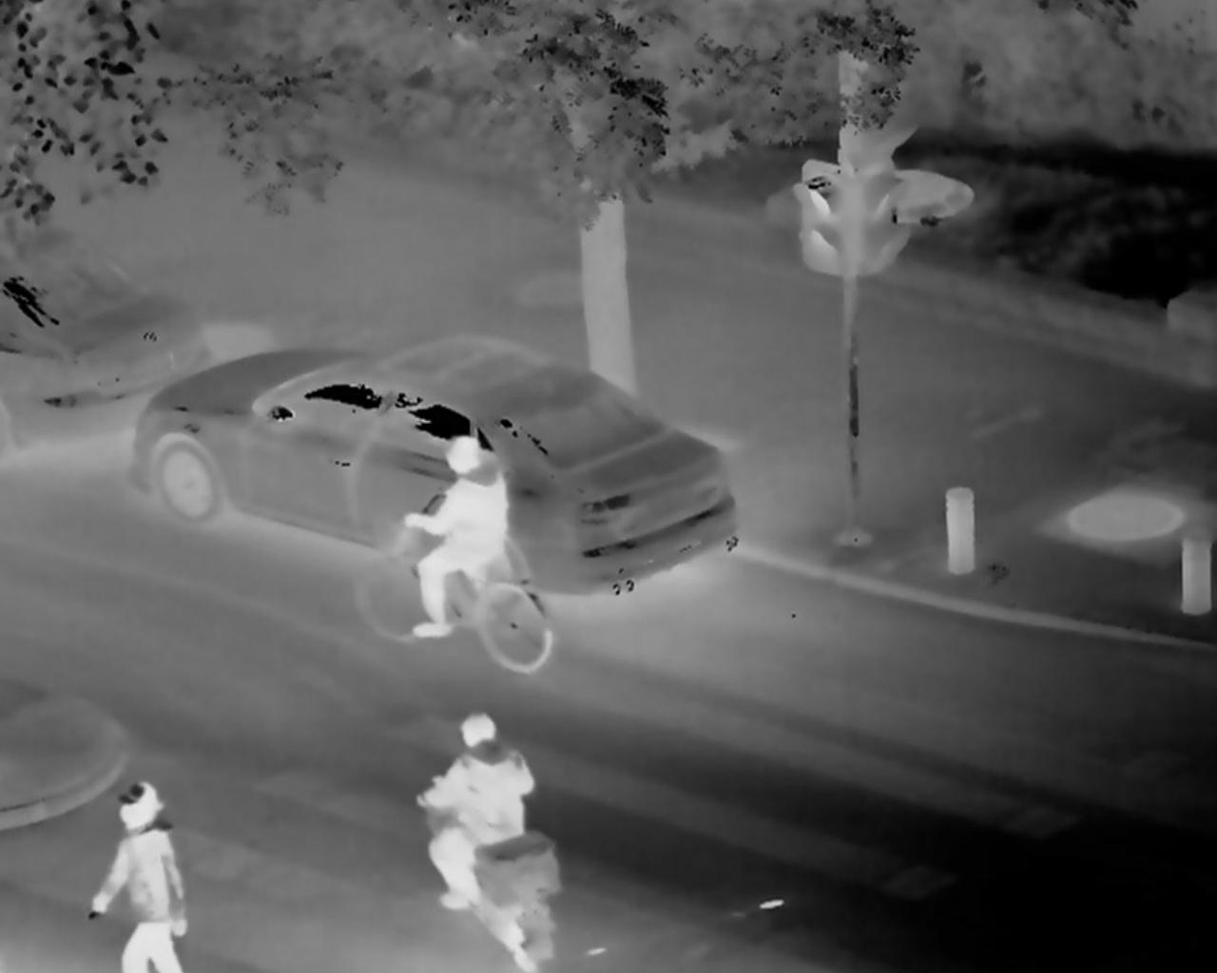person: (416, 707, 554, 926), (404, 436, 516, 651), (87, 785, 183, 973)
